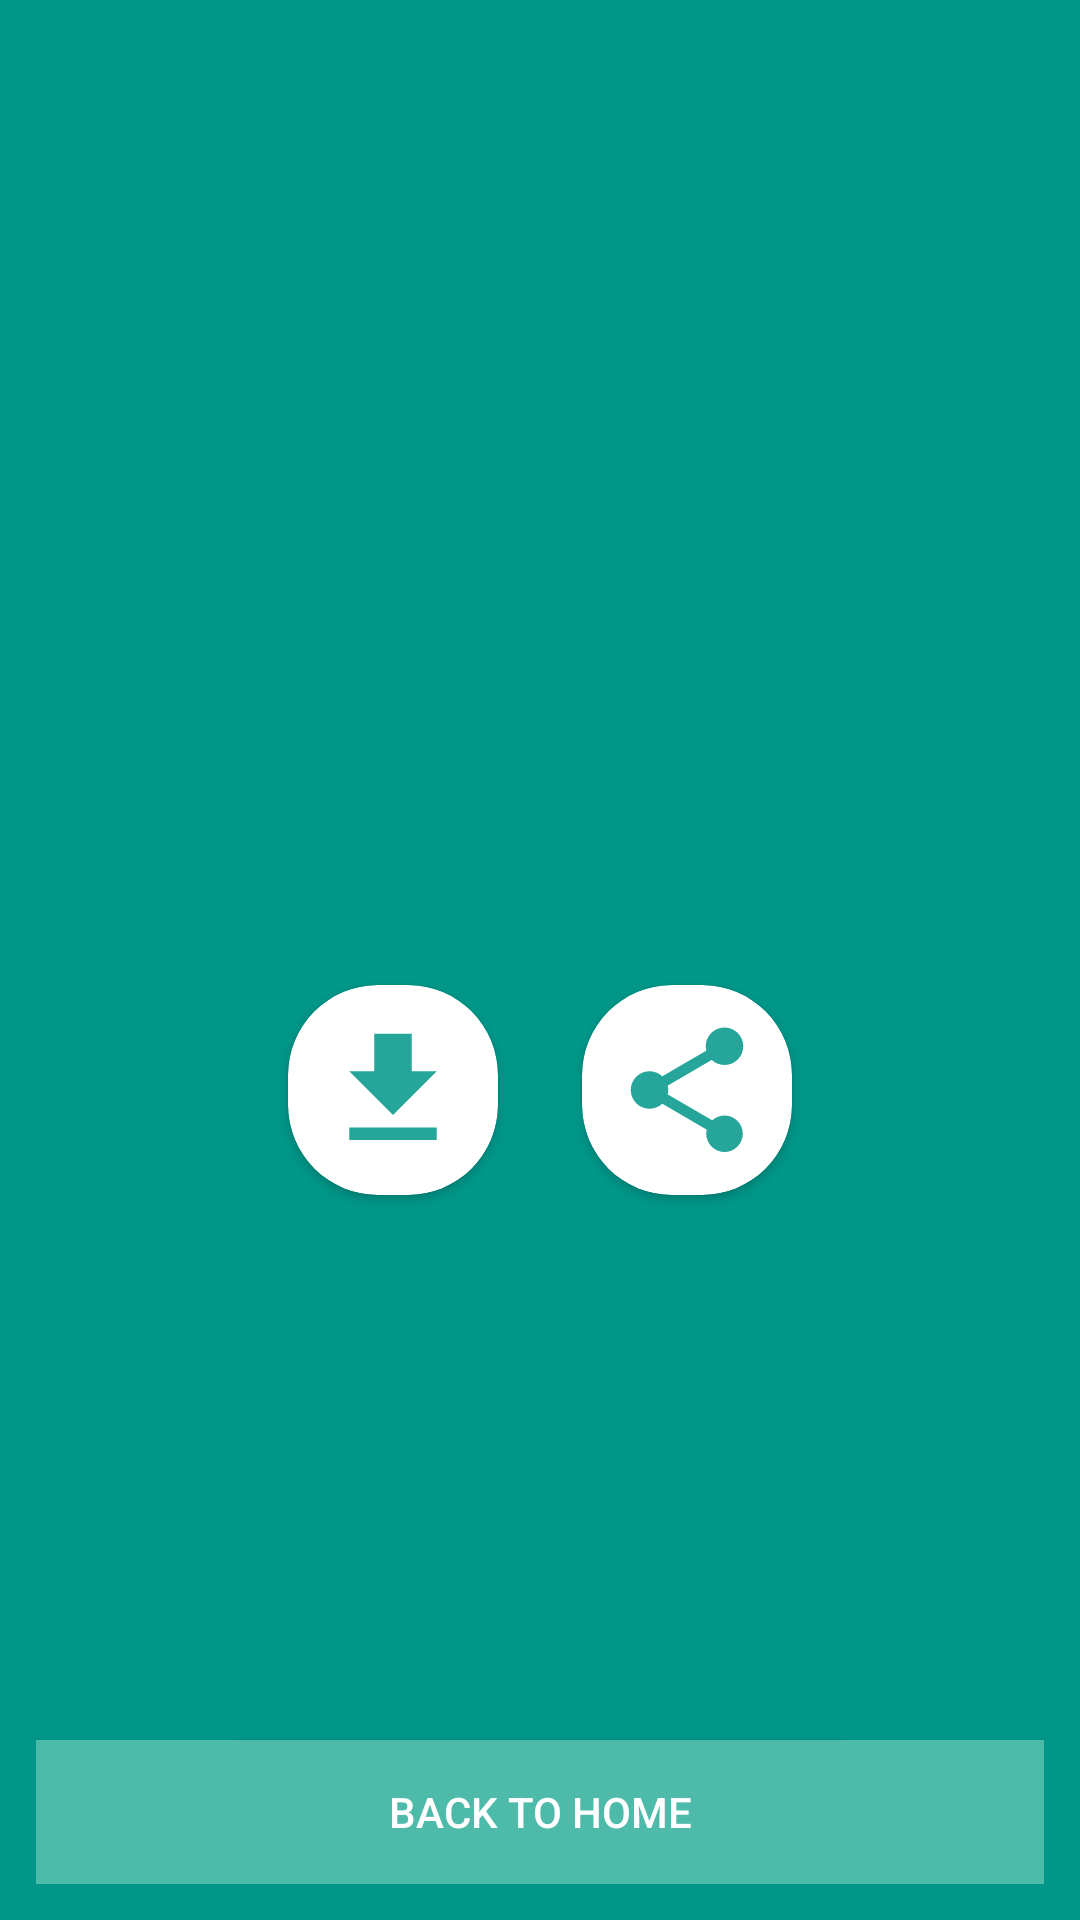

Icons on this 1080x1920 Android screen, each with its box as Rect(x1, y1, x2, y2):
download: Rect(349, 1033, 437, 1140)
share: Rect(630, 1027, 744, 1152)
